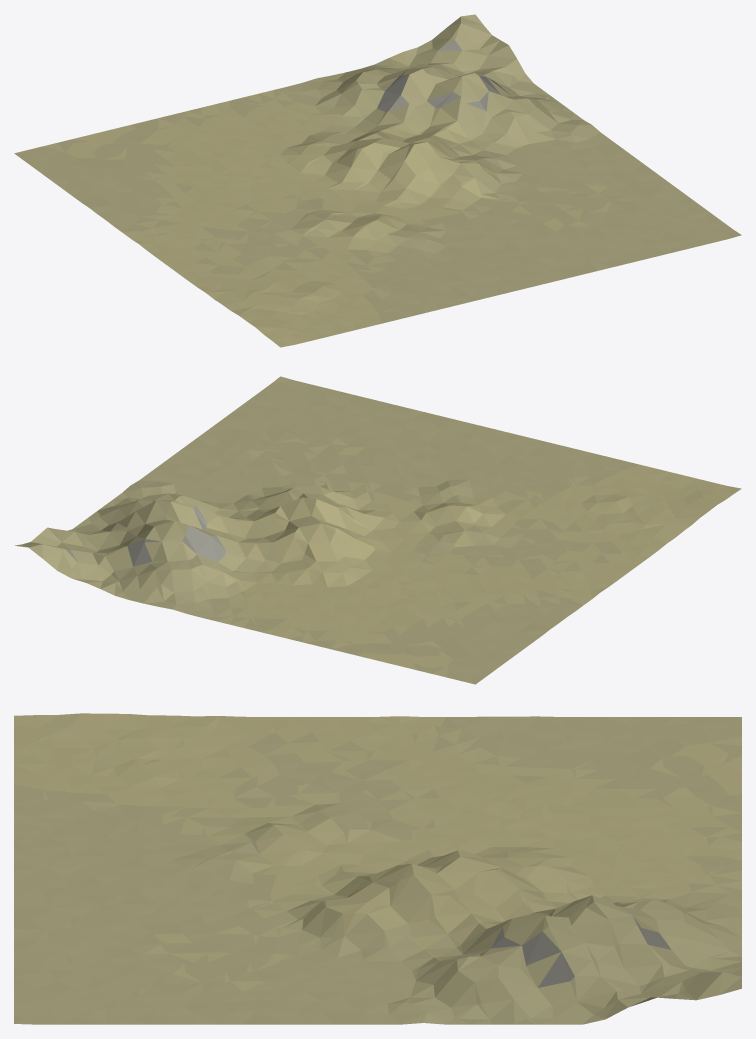
File: Ground_5_-6.glb
The picture shows the model from 3 angles, top to bottom: view 1: azimuth 30°, elevation 25°; view 2: azimuth 150°, elevation 25°; view 3: azimuth 270°, elevation 25°; orthographic projection. The views are drawn at different scales.
Parts seen in each view (by area): view 1: Ground_5_-6; view 2: Ground_5_-6; view 3: Ground_5_-6.
Boxes of the visible parts, <box> form: Ground_5_-6: <box>14,14,741,347</box>; Ground_5_-6: <box>15,376,741,684</box>; Ground_5_-6: <box>14,713,741,1024</box>.
Bounding box in the file's own units: 768 × 60.65 × 768.
